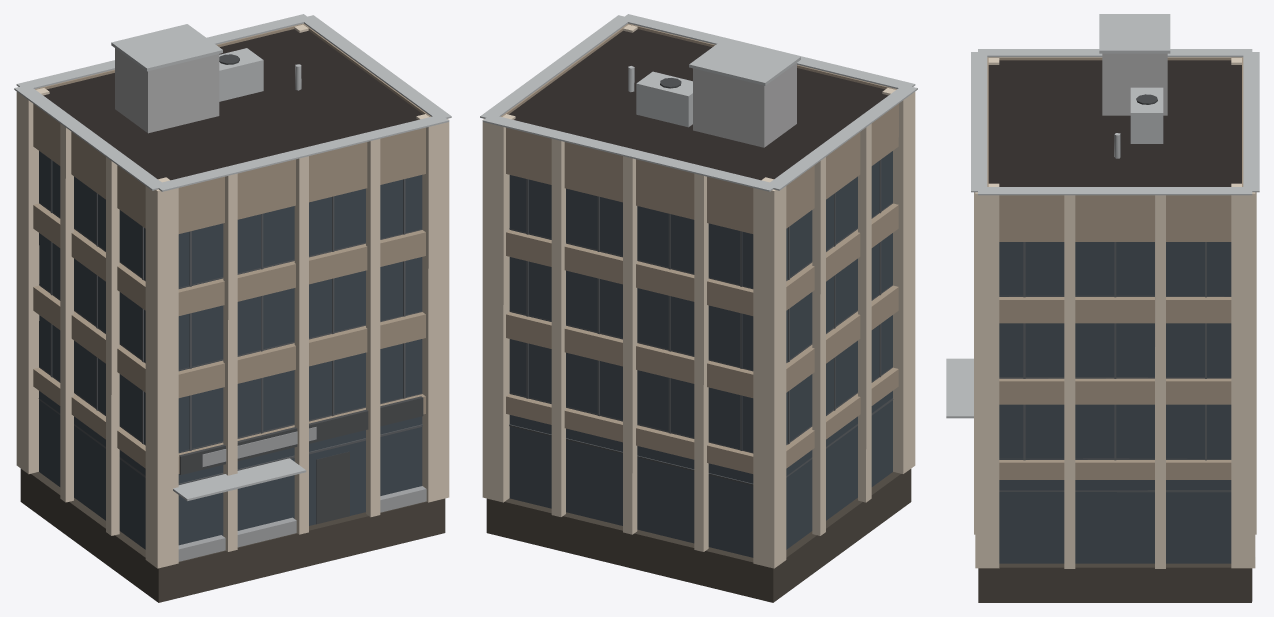
File: shop-office-lod1.glb
3 renders of one model, left to right at view 1: azimuth 30°, elevation 25°; view 2: azimuth 150°, elevation 25°; view 3: azimuth 270°, elevation 25°, orthographic.
Parts seen in each view (by area): view 1: shop-office-plaster0.001; view 2: shop-office-plaster0.001; view 3: shop-office-plaster0.001.
Boxes of the visible parts, box(x1,y1,x2,y2) form: shop-office-plaster0.001: box(14, 14, 451, 602); shop-office-plaster0.001: box(480, 14, 917, 602); shop-office-plaster0.001: box(946, 14, 1259, 602).
Bounding box in the file's own units: 12.6 × 19.21 × 11.5.
